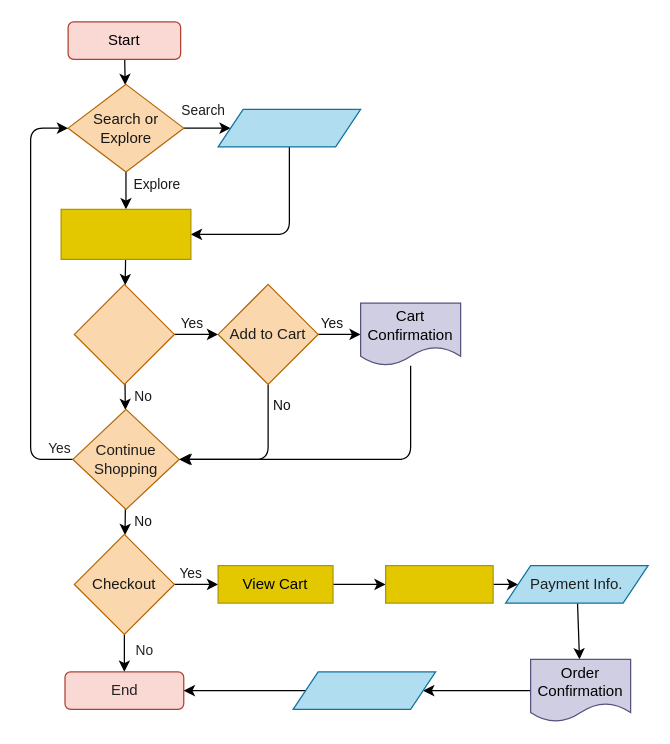
This 670x744 diagram has some shape labels left out. Here are the shapes that lost their labels. From the top down, the centre of each, then its label:
point 289,127: Search Query
point 125,233: Look at Products
point 123,333: View Item
point 438,583: View Payment
point 364,690: Email
